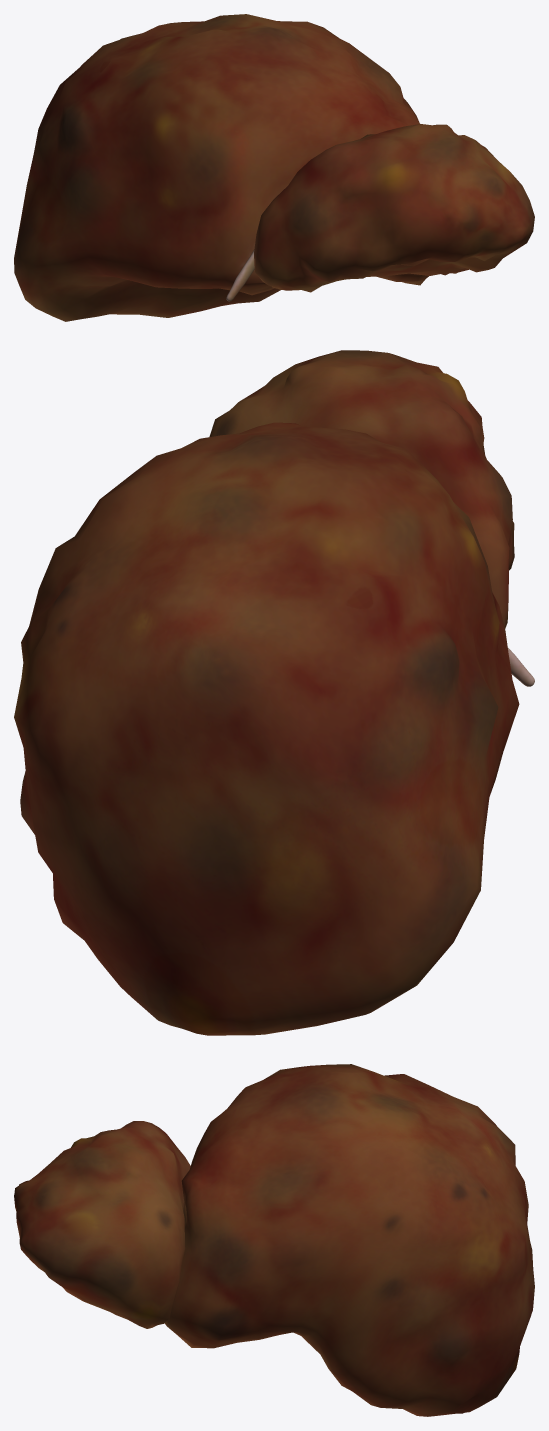
File: cirrhotic_liver.glb
3 views of the same model, one above another, from view 1: azimuth 30°, elevation 25°; view 2: azimuth 150°, elevation 25°; view 3: azimuth 270°, elevation 25° (orthographic). The views are drawn at different scales.
Parts seen in each view (by area): view 1: Object_5, Object_3, Object_4; view 2: Object_5, Object_3; view 3: Object_5, Object_3.
Boxes of the visible parts, x1,y1,x2,y2 form: Object_5: (14,14,428,321); Object_3: (254,124,534,292); Object_4: (226,250,254,301); Object_5: (14,422,519,1035); Object_3: (209,350,514,628); Object_5: (164,1064,534,1416); Object_3: (14,1121,190,1328).
Size of the model in its own units: 0.3792 by 0.3625 by 0.5309.
3 materials, 3 textured.
